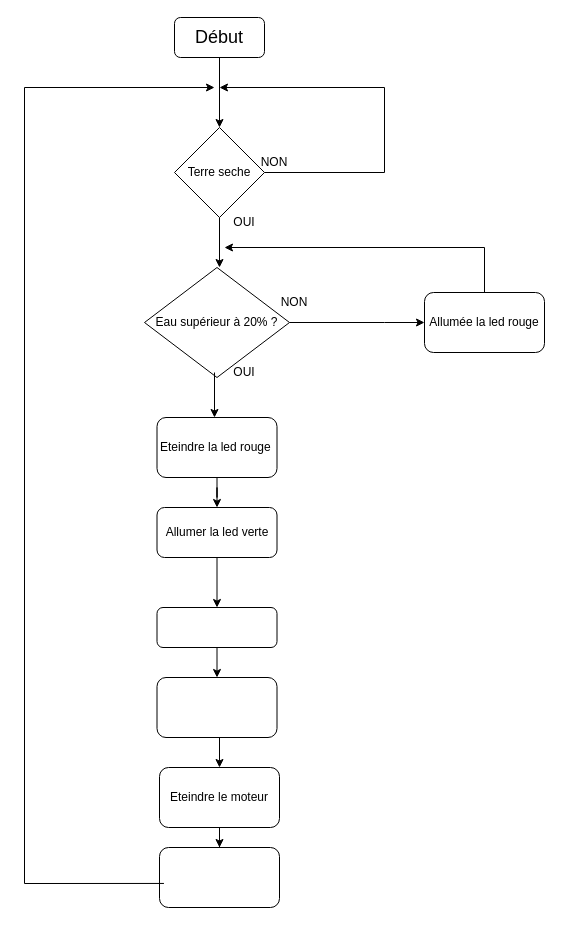
This 562x925 diagram has some shape labels left out. Each missing label, with the centre of its shape:
"Allumer le moteur" belongs at point (216, 627).
"Attendre jusqu'a ce que la terre soit humide" belongs at point (216, 707).
"Eteindre la led verte" belongs at point (219, 877).
